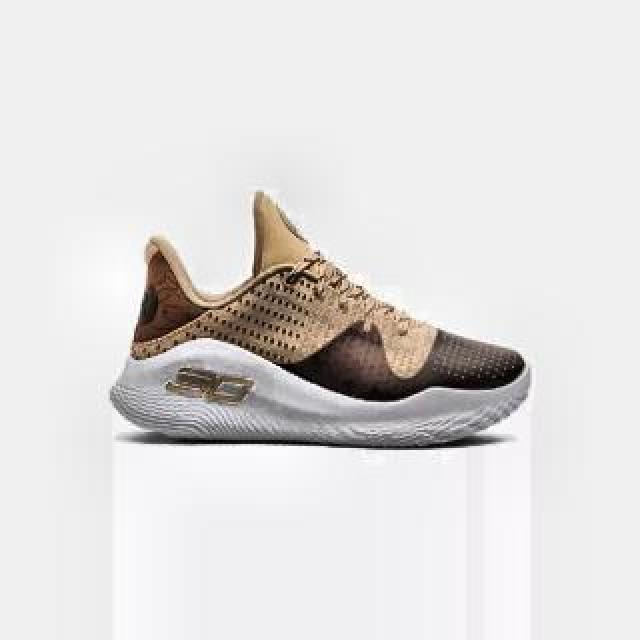shoe: (109, 189, 533, 447)
